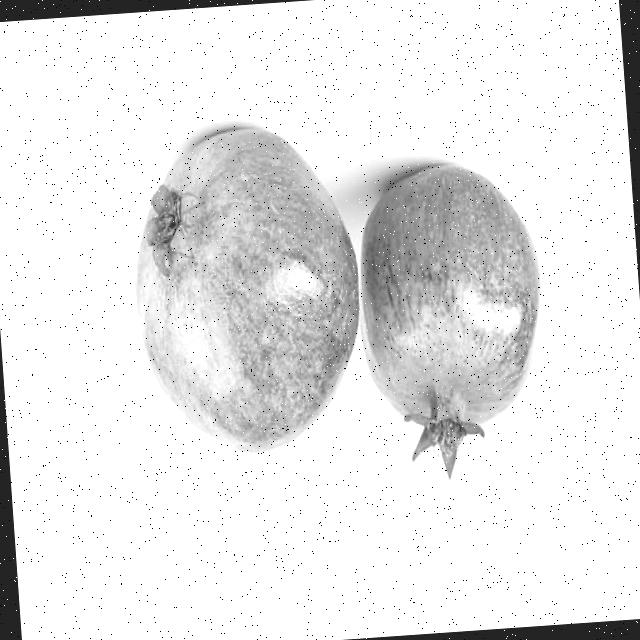Ripe: (124, 117, 368, 466), (346, 150, 560, 485)
